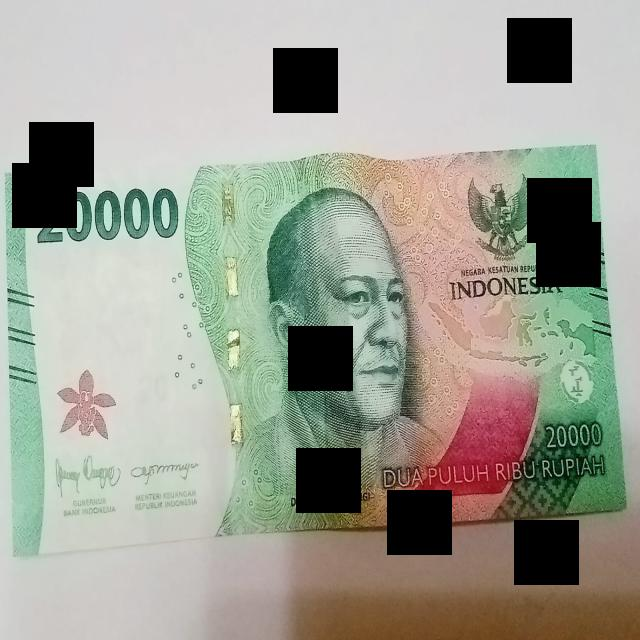dua puluh ribu rupiah: (6, 147, 625, 555)
